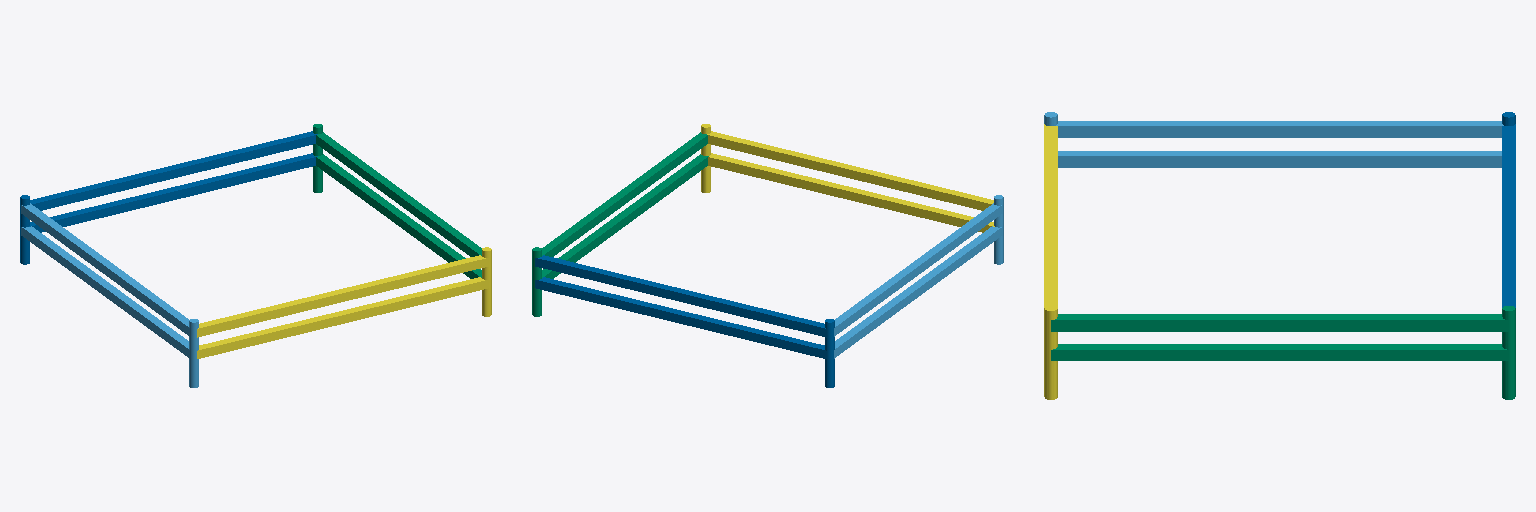
The robot description file, URDF, robot "cube":
<?xml version="1.0" ?>
<robot name="cube">
    <link name="base">
        <contact>
            <lateral_friction value="1.0"/>
            <rolling_friction value="0.0"/>
            <contact_cfm value="0.0"/>
            <contact_erp value="1.0"/>
        </contact>
        <inertial>
            <origin rpy="0 0 0" xyz="0 0 -0.11"/>
            <mass value="100.0"/>
            <inertia ixx="1" ixy="0" ixz="0" iyy="1" iyz="0" izz="1"/>
        </inertial>
        <!-- <visual>
            <origin rpy="0 0 0" xyz="0 0 -0.11"/>
            <geometry>
                <box size="7 7 0.05"/>
            </geometry>
        </visual> -->
        <!-- <collision>
            <origin rpy="0 0 0" xyz="0 0 -0.11"/>
            <geometry>
                <box size="7 7 0.05"/>
            </geometry>
        </collision> -->
    </link>
    <joint name="wall_S" type="fixed" >
        <parent link = "base" />
        <child link="wall_S" />
                <origin rpy = "0 0 0" xyz = "-3.5 0.0 0.25" />
    </joint>
    <link name="wall_S">
        <contact>
            <lateral_friction value="1.0"/>
            <rolling_friction value="0.0"/>
            <contact_cfm value="0.0"/>
            <contact_erp value="1.0"/>
        </contact>
        <inertial>
            <origin rpy="0 0 0" xyz="0 0 0.5"/>
            <mass value="10.0"/>
            <inertia ixx="1" ixy="0" ixz="0" iyy="1" iyz="0" izz="1"/>
        </inertial>
        <visual>
            <origin rpy="0 0 0" xyz="0 -3.5 0.25"/>
            <geometry>
                <cylinder length="1.5" radius="0.1"/>
            </geometry>
        </visual>
        <visual>
            <origin rpy="0 0 0" xyz="0 0 0.25"/>
            <geometry>
                <box size="0.2 7 0.2"/>
            </geometry>
        </visual>
        <visual>
            <origin rpy="0 0 0" xyz="0 0 0.75"/>
            <geometry>
                <box size="0.2 7 0.2"/>
            </geometry>
        </visual>
        <collision>
            <origin rpy="0 0 0" xyz="0 0 0.5"/>
            <geometry>
                <box size="0.2 7 1.0"/>
            </geometry>
        </collision>
    </link>
    <joint name="wall_N" type="fixed" >
        <parent link = "base" />
        <child link="wall_N" />
                <origin rpy = "0 0 0" xyz = "3.5 0.0 0.25" />
    </joint>
    <link name="wall_N">
        <contact>
            <lateral_friction value="1.0"/>
            <rolling_friction value="0.0"/>
            <contact_cfm value="0.0"/>
            <contact_erp value="1.0"/>
        </contact>
        <inertial>
            <origin rpy="0 0 0" xyz="0 0 0.5"/>
            <mass value="10.0"/>
            <inertia ixx="1" ixy="0" ixz="0" iyy="1" iyz="0" izz="1"/>
        </inertial>
        <visual>
            <origin rpy="0 0 0" xyz="0 3.5 0.25"/>
            <geometry>
                <cylinder length="1.5" radius="0.1"/>
            </geometry>
        </visual>
        <visual>
            <origin rpy="0 0 0" xyz="0 0 0.25"/>
            <geometry>
                <box size="0.2 7 0.2"/>
            </geometry>
        </visual>
        <visual>
            <origin rpy="0 0 0" xyz="0 0 0.75"/>
            <geometry>
                <box size="0.2 7 0.2"/>
            </geometry>
        </visual>
        <collision>
            <origin rpy="0 0 0" xyz="0 0 0.5"/>
            <geometry>
                <box size="0.2 7 1.0"/>
            </geometry>
        </collision>
    </link>
    <joint name="wall_W" type="fixed" >
        <parent link = "base" />
        <child link="wall_W" />
                <origin rpy = "0 0 0" xyz = "0.0 -3.5 0.25" />
    </joint>
    <link name="wall_W">
        <contact>
            <lateral_friction value="1.0"/>
            <rolling_friction value="0.0"/>
            <contact_cfm value="0.0"/>
            <contact_erp value="1.0"/>
        </contact>
        <inertial>
            <origin rpy="0 0 0" xyz="0 0 0.5"/>
            <mass value="10.0"/>
            <inertia ixx="1" ixy="0" ixz="0" iyy="1" iyz="0" izz="1"/>
        </inertial>
        <visual>
            <origin rpy="0 0 0" xyz="3.5 0 0.25"/>
            <geometry>
                <cylinder length="1.5" radius="0.1"/>
            </geometry>
        </visual>
        <visual>
            <origin rpy="0 0 0" xyz="0 0 0.25"/>
            <geometry>
                <box size="7 0.2 0.2"/>
            </geometry>
        </visual>
        <visual>
            <origin rpy="0 0 0" xyz="0 0 0.75"/>
            <geometry>
                <box size="7 0.2 0.2"/>
            </geometry>
        </visual>
        <collision>
            <origin rpy="0 0 0" xyz="0 0 0.5"/>
            <geometry>
                <box size="7 0.2 1.0"/>
            </geometry>
        </collision>
    </link>
    <joint name="wall_E" type="fixed" >
        <parent link = "base" />
        <child link="wall_E" />
                <origin rpy = "0 0 0" xyz = "0.0 3.5 0.25" />
    </joint>
    <link name="wall_E">
        <contact>
            <lateral_friction value="1.0"/>
            <rolling_friction value="0.0"/>
            <contact_cfm value="0.0"/>
            <contact_erp value="1.0"/>
        </contact>
        <inertial>
            <origin rpy="0 0 0" xyz="0 0 0.5"/>
            <mass value="10.0"/>
            <inertia ixx="1" ixy="0" ixz="0" iyy="1" iyz="0" izz="1"/>
        </inertial>
        <visual>
            <origin rpy="0 0 0" xyz="-3.5 0 0.25"/>
            <geometry>
                <cylinder length="1.5" radius="0.1"/>
            </geometry>
        </visual>
        <visual>
            <origin rpy="0 0 0" xyz="0 0 0.25"/>
            <geometry>
                <box size="7 0.2 0.2"/>
            </geometry>
        </visual>
        <visual>
            <origin rpy="0 0 0" xyz="0 0 0.75"/>
            <geometry>
                <box size="7 0.2 0.2"/>
            </geometry>
        </visual>
        <collision>
            <origin rpy="0 0 0" xyz="0 0 0.5"/>
            <geometry>
                <box size="7 0.2 1.0"/>
            </geometry>
        </collision>
    </link>
</robot>

--- Render facts (derived) ---
3 views of the same robot in one strip: view 1: azimuth 30°, elevation 25°; view 2: azimuth 150°, elevation 25°; view 3: azimuth 270°, elevation 25° (orthographic).
Model cube with 5 links and 4 joints (4 fixed), rooted at base, posed all joints at 0.
Visible links, largest first — view 1: wall_W, wall_E, wall_S, wall_N; view 2: wall_E, wall_W, wall_S, wall_N; view 3: wall_N, wall_S, wall_W, wall_E.
Boxes of the visible links, box(x1,y1,x2,y2) form: wall_W: box(197, 247, 491, 358); wall_E: box(20, 131, 317, 264); wall_S: box(21, 203, 198, 387); wall_N: box(313, 124, 481, 278); wall_E: box(535, 255, 834, 387); wall_W: box(701, 124, 994, 232); wall_S: box(834, 195, 1003, 358); wall_N: box(532, 132, 708, 316); wall_N: box(1051, 306, 1515, 399); wall_S: box(1044, 112, 1503, 167); wall_W: box(1044, 124, 1057, 399); wall_E: box(1502, 112, 1515, 307).
Size in the robot's own frame: 7.2 by 7.2 by 1.5 metres.
Geometry: primitives only (box / cylinder / sphere), no mesh files.